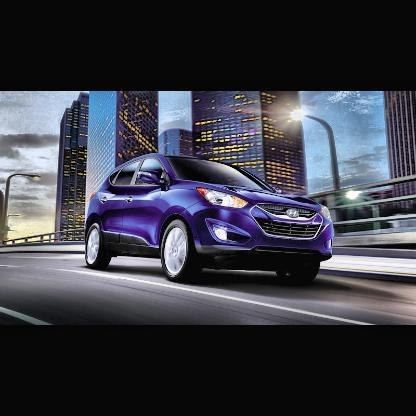Hyundai Tucson SUV 2012: (87, 156, 336, 282)
